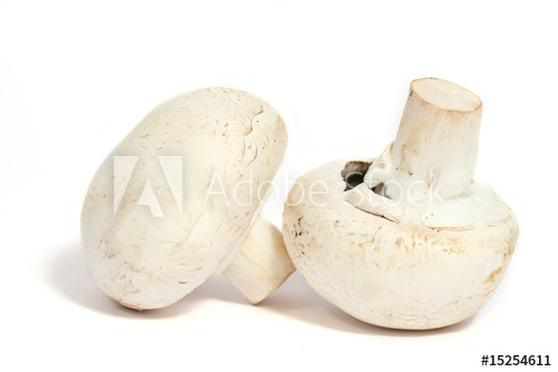champignon: (287, 76, 517, 330), (77, 86, 298, 313)
